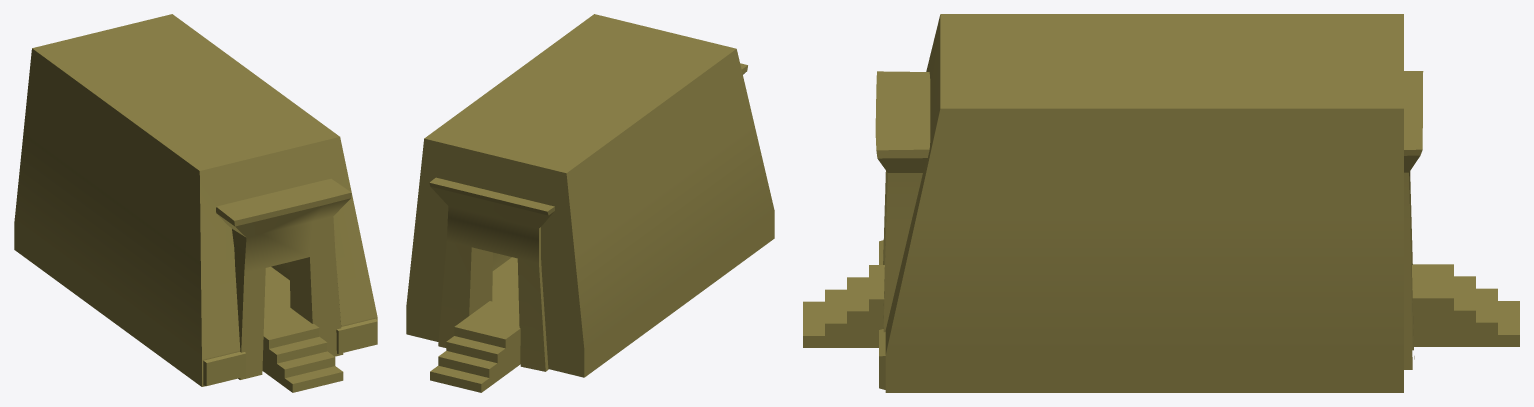
Rendered from Tample_with_two_entrances_Low.fbx.
3 renders of one model, left to right at view 1: azimuth 30°, elevation 25°; view 2: azimuth 150°, elevation 25°; view 3: azimuth 270°, elevation 25°, orthographic. The views are drawn at different scales.
Parts seen in each view (by area): view 1: Gates_Small_2_Low, Steps_1_Low; view 2: Gates_Small_2_Low, Steps_2_Low; view 3: Gates_Small_2_Low, Steps_2_Low, Steps_1_Low.
Part boxes in pixels (x1=…): Gates_Small_2_Low: x1=14, y1=14, x2=377, y2=386; Steps_1_Low: x1=262, y1=302, x2=343, y2=392; Gates_Small_2_Low: x1=406, y1=14, x2=774, y2=377; Steps_2_Low: x1=430, y1=301, x2=520, y2=392; Gates_Small_2_Low: x1=875, y1=14, x2=1423, y2=392; Steps_2_Low: x1=1412, y1=264, x2=1519, y2=346; Steps_1_Low: x1=803, y1=265, x2=884, y2=347.
Bounding box in the file's own units: 1135 × 1225 × 2906.
